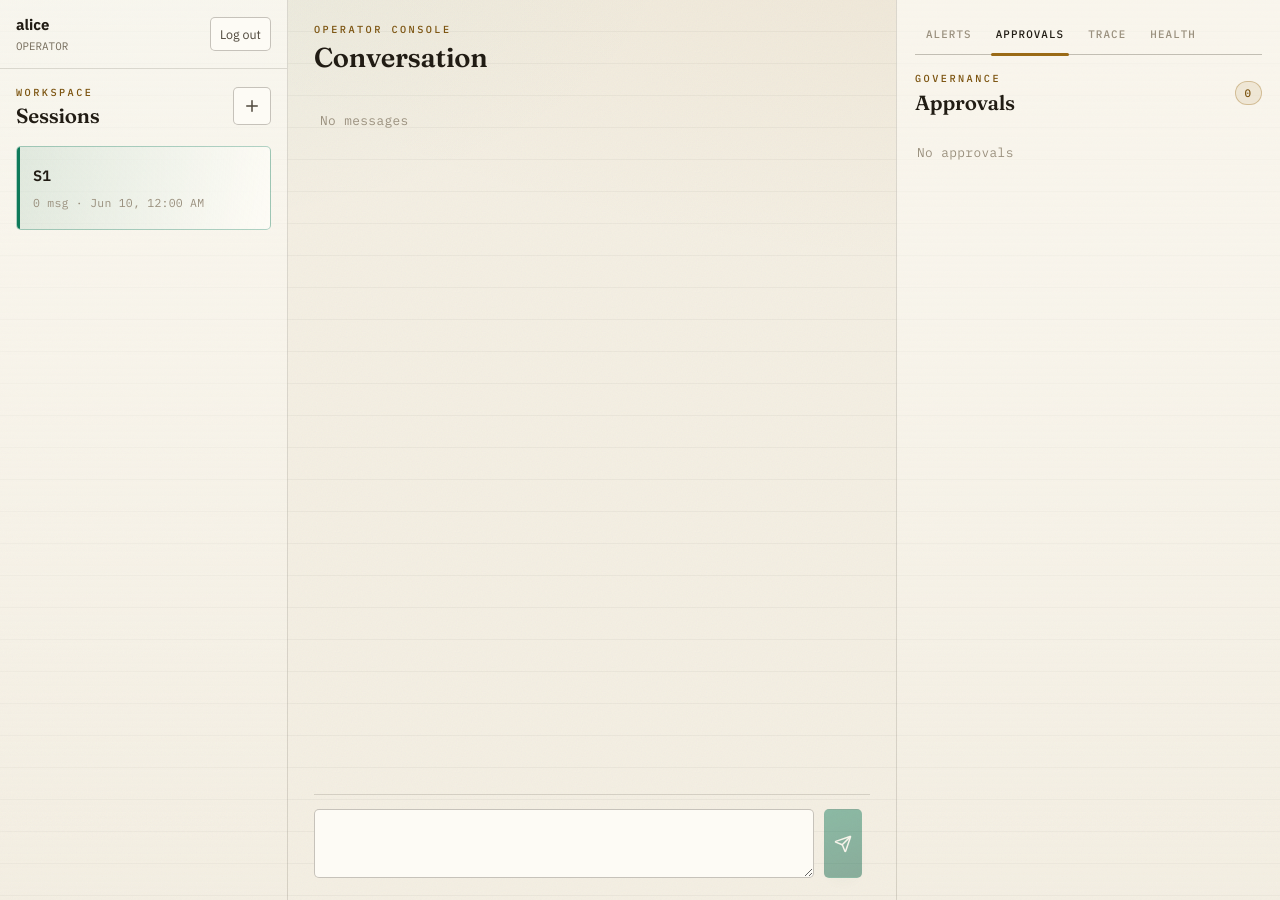
Scenario: App › keeps the active rail tab when a pending proposal arrives inline
What coordinates should you click on to do the following:
click the tab "Trace"
I would click on:
 (1107, 35)
Its box is top-left (1077, 18), bottom-right (1137, 52).
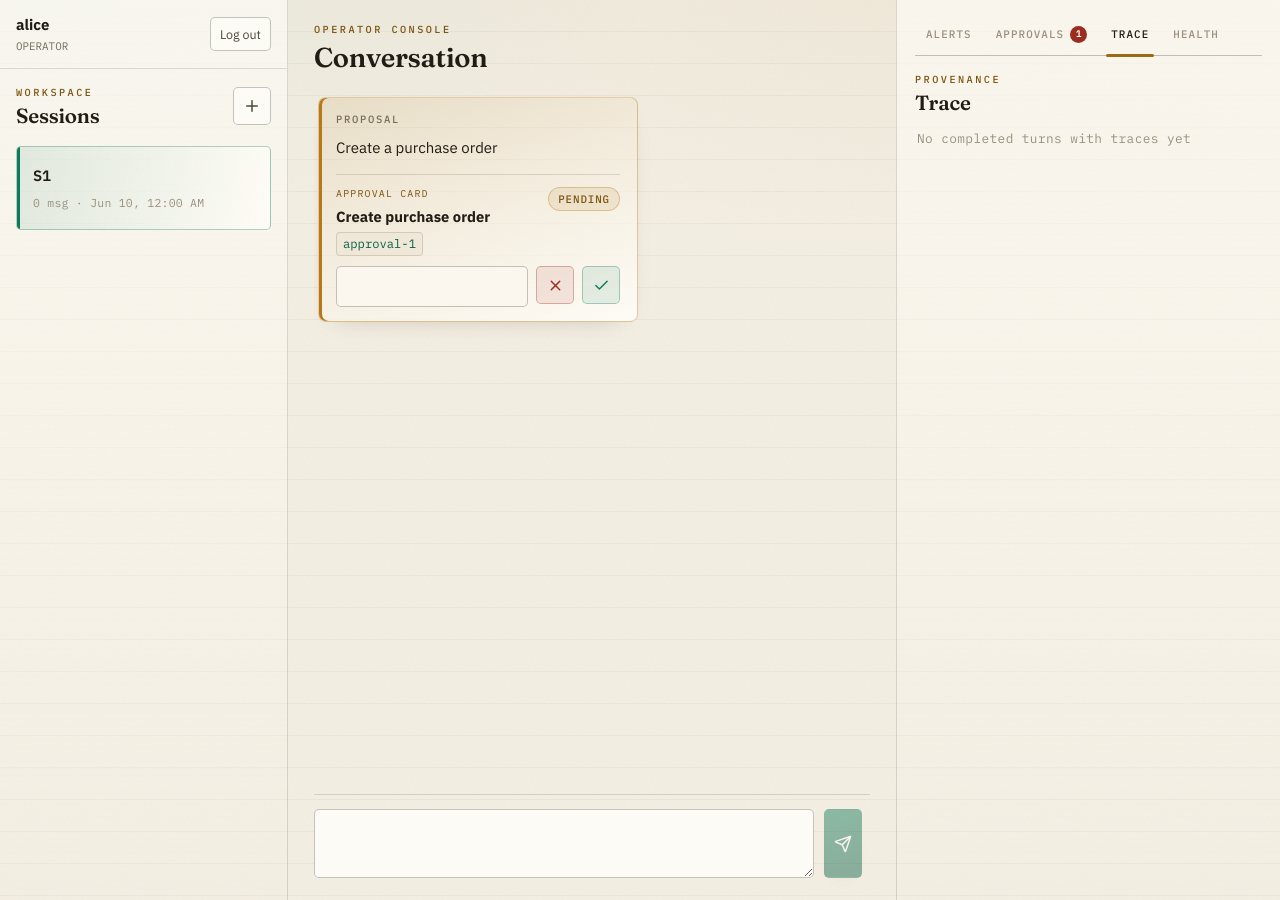
Result: the element labelled "Approval card" is shown at top-left (336, 174), bottom-right (620, 307)
Result: the text "Create purchase order" is shown at top-left (336, 206), bottom-right (490, 228)
Result: the text "approval-1" is shown at top-left (336, 232), bottom-right (423, 256)
